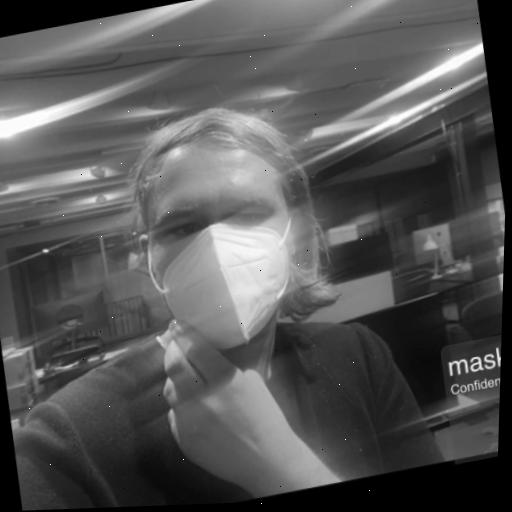mask: (94, 65, 344, 365)
